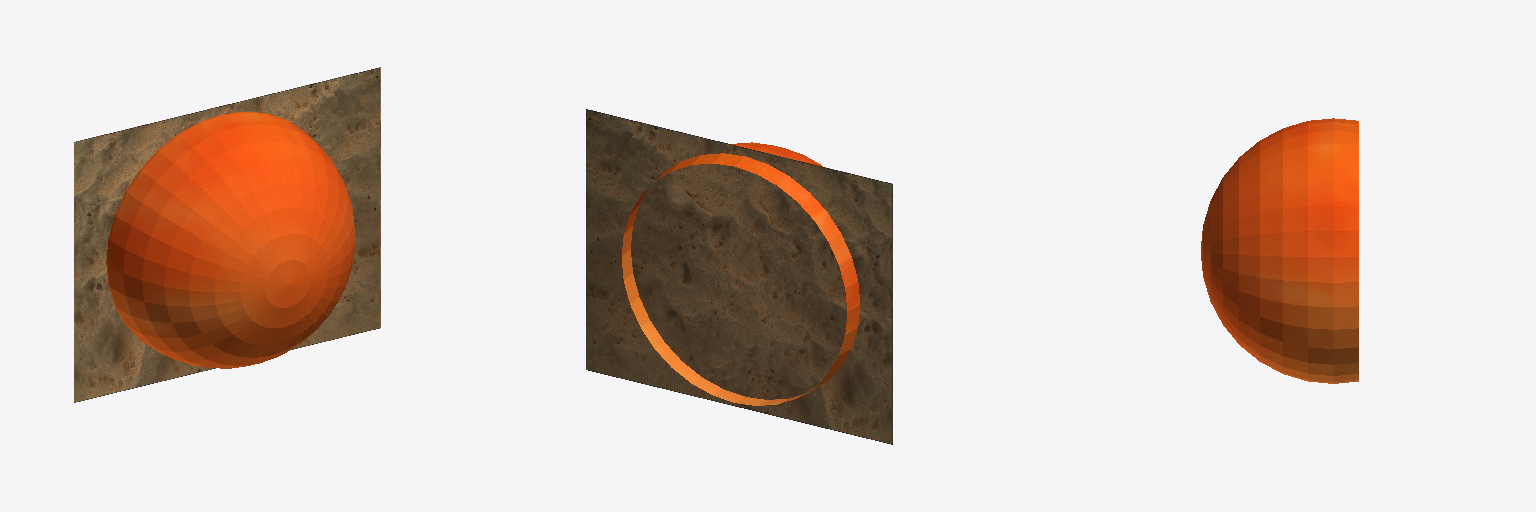
3 renders of one model, left to right at view 1: azimuth 30°, elevation 25°; view 2: azimuth 150°, elevation 25°; view 3: azimuth 270°, elevation 25°, orthographic.
Parts seen in each view (by area): view 1: Sphere, Plane; view 2: Plane, Sphere; view 3: Sphere.
Boxes of the visible parts, box(x1,y1,x2,y2) form: Sphere: box(106, 108, 355, 368); Plane: box(74, 67, 380, 402); Plane: box(586, 109, 892, 444); Sphere: box(622, 142, 859, 405); Sphere: box(1201, 118, 1358, 383).
Bounding box in the file's own units: 80 × 65 × 35.85.
2 materials, 2 textured.